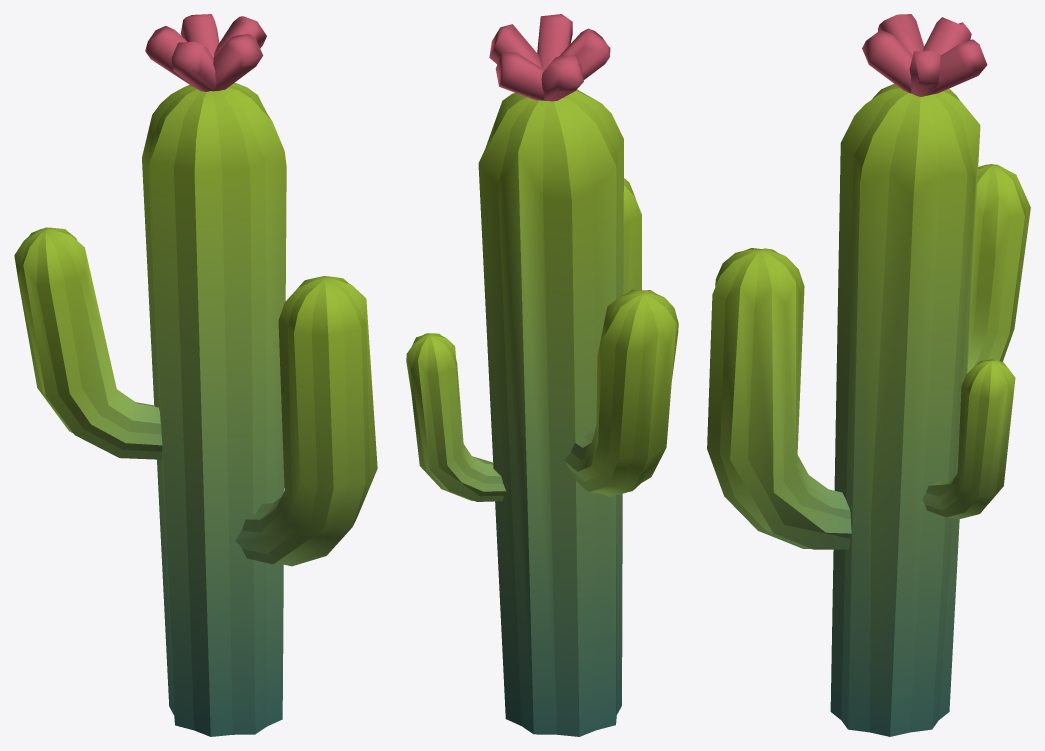
3 views of the same model, side by side, from view 1: azimuth 30°, elevation 25°; view 2: azimuth 150°, elevation 25°; view 3: azimuth 270°, elevation 25° (orthographic). The views are drawn at different scales.
Parts seen in each view (by area): view 1: LOD 1_7895142726789826799_f747010238922ae448abd02d66270030; view 2: LOD 1_7895142726789826799_f747010238922ae448abd02d66270030; view 3: LOD 1_7895142726789826799_f747010238922ae448abd02d66270030.
Boxes of the visible parts, box(x1,y1,x2,y2) form: LOD 1_7895142726789826799_f747010238922ae448abd02d66270030: box(14, 14, 377, 736); LOD 1_7895142726789826799_f747010238922ae448abd02d66270030: box(406, 14, 678, 736); LOD 1_7895142726789826799_f747010238922ae448abd02d66270030: box(707, 14, 1030, 736).
Size of the model in its own units: 1.08 by 2.66 by 1.14.
